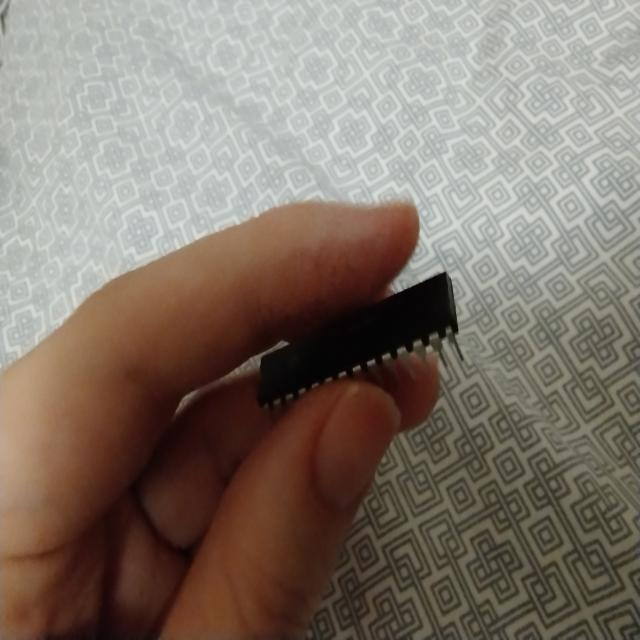atmega: (254, 268, 466, 414)
